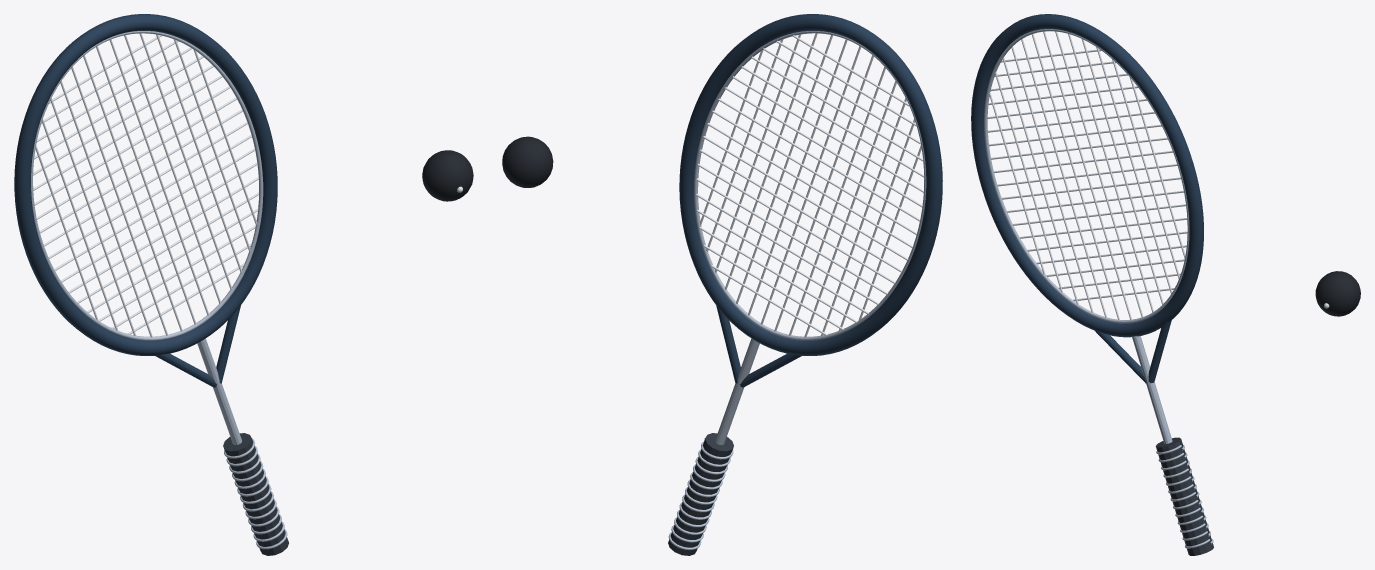
File: squash.glb
The picture shows the model from 3 angles, left to right: view 1: azimuth 30°, elevation 25°; view 2: azimuth 150°, elevation 25°; view 3: azimuth 330°, elevation 25°; orthographic projection. The views are drawn at different scales.
Visible parts, largest first — view 1: Carbon frame, Inner silver trim, Handle, Ball, Shaft, Vertical string.006, Vertical string.007, Vertical string.005, Vertical string.008, Vertical string.004, Vertical string.009, Vertical string.003 (+14 smaller); view 2: Carbon frame, Inner silver trim, Handle, Ball, Shaft, Vertical string.006, Vertical string.007, Vertical string.005, Vertical string.008, Vertical string.004, Vertical string.003, Cross string.009 (+19 smaller); view 3: Carbon frame, Handle, Inner silver trim, Ball, Shaft, Vertical string.006, Vertical string.005, Vertical string.007, Vertical string.004, Vertical string.008, Vertical string.003, Vertical string.009 (+8 smaller).
Part boxes in pixels (x1,y1,x2,y2): Carbon frame: [14, 14, 277, 355]; Inner silver trim: [31, 31, 263, 340]; Handle: [223, 433, 288, 555]; Ball: [422, 150, 473, 201]; Shaft: [197, 338, 241, 445]; Vertical string.006: [96, 46, 196, 324]; Vertical string.007: [109, 39, 209, 315]; Vertical string.005: [83, 55, 182, 331]; Vertical string.008: [124, 35, 221, 303]; Vertical string.004: [71, 67, 168, 335]; Vertical string.009: [139, 33, 232, 289]; Vertical string.003: [60, 81, 152, 337]; Carbon frame: [679, 14, 942, 355]; Inner silver trim: [694, 31, 926, 340]; Handle: [668, 433, 733, 555]; Ball: [502, 136, 553, 187]; Shaft: [715, 338, 759, 445]; Vertical string.006: [760, 46, 861, 324]; Vertical string.007: [748, 39, 847, 315]; Vertical string.005: [774, 55, 873, 331]; Vertical string.008: [736, 35, 832, 303]; Vertical string.004: [789, 67, 885, 335]; Vertical string.003: [804, 81, 896, 337]; Cross string.009: [707, 123, 912, 248]; Carbon frame: [971, 14, 1203, 337]; Handle: [1155, 437, 1213, 555]; Inner silver trim: [984, 29, 1189, 323]; Ball: [1315, 271, 1360, 316]; Shaft: [1132, 336, 1172, 443]; Vertical string.006: [1043, 31, 1131, 320]; Vertical string.005: [1031, 34, 1119, 320]; Vertical string.007: [1055, 31, 1143, 317]; Vertical string.004: [1021, 39, 1107, 317]; Vertical string.008: [1068, 34, 1153, 312]; Vertical string.003: [1011, 46, 1093, 312]; Vertical string.009: [1081, 39, 1163, 304].
Bounding box in the file's own units: 2.79 × 3.42 × 0.3433.
